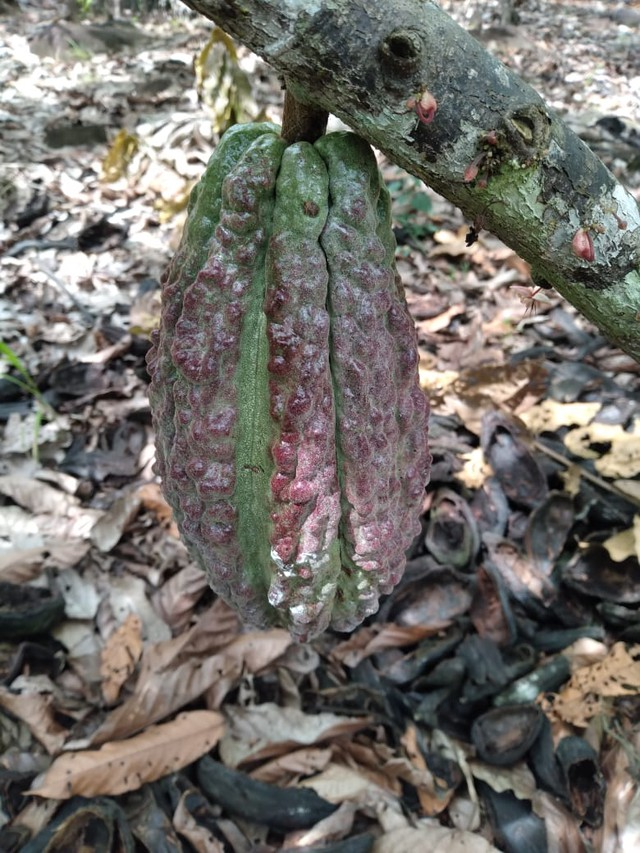Health: (121, 98, 445, 650)
